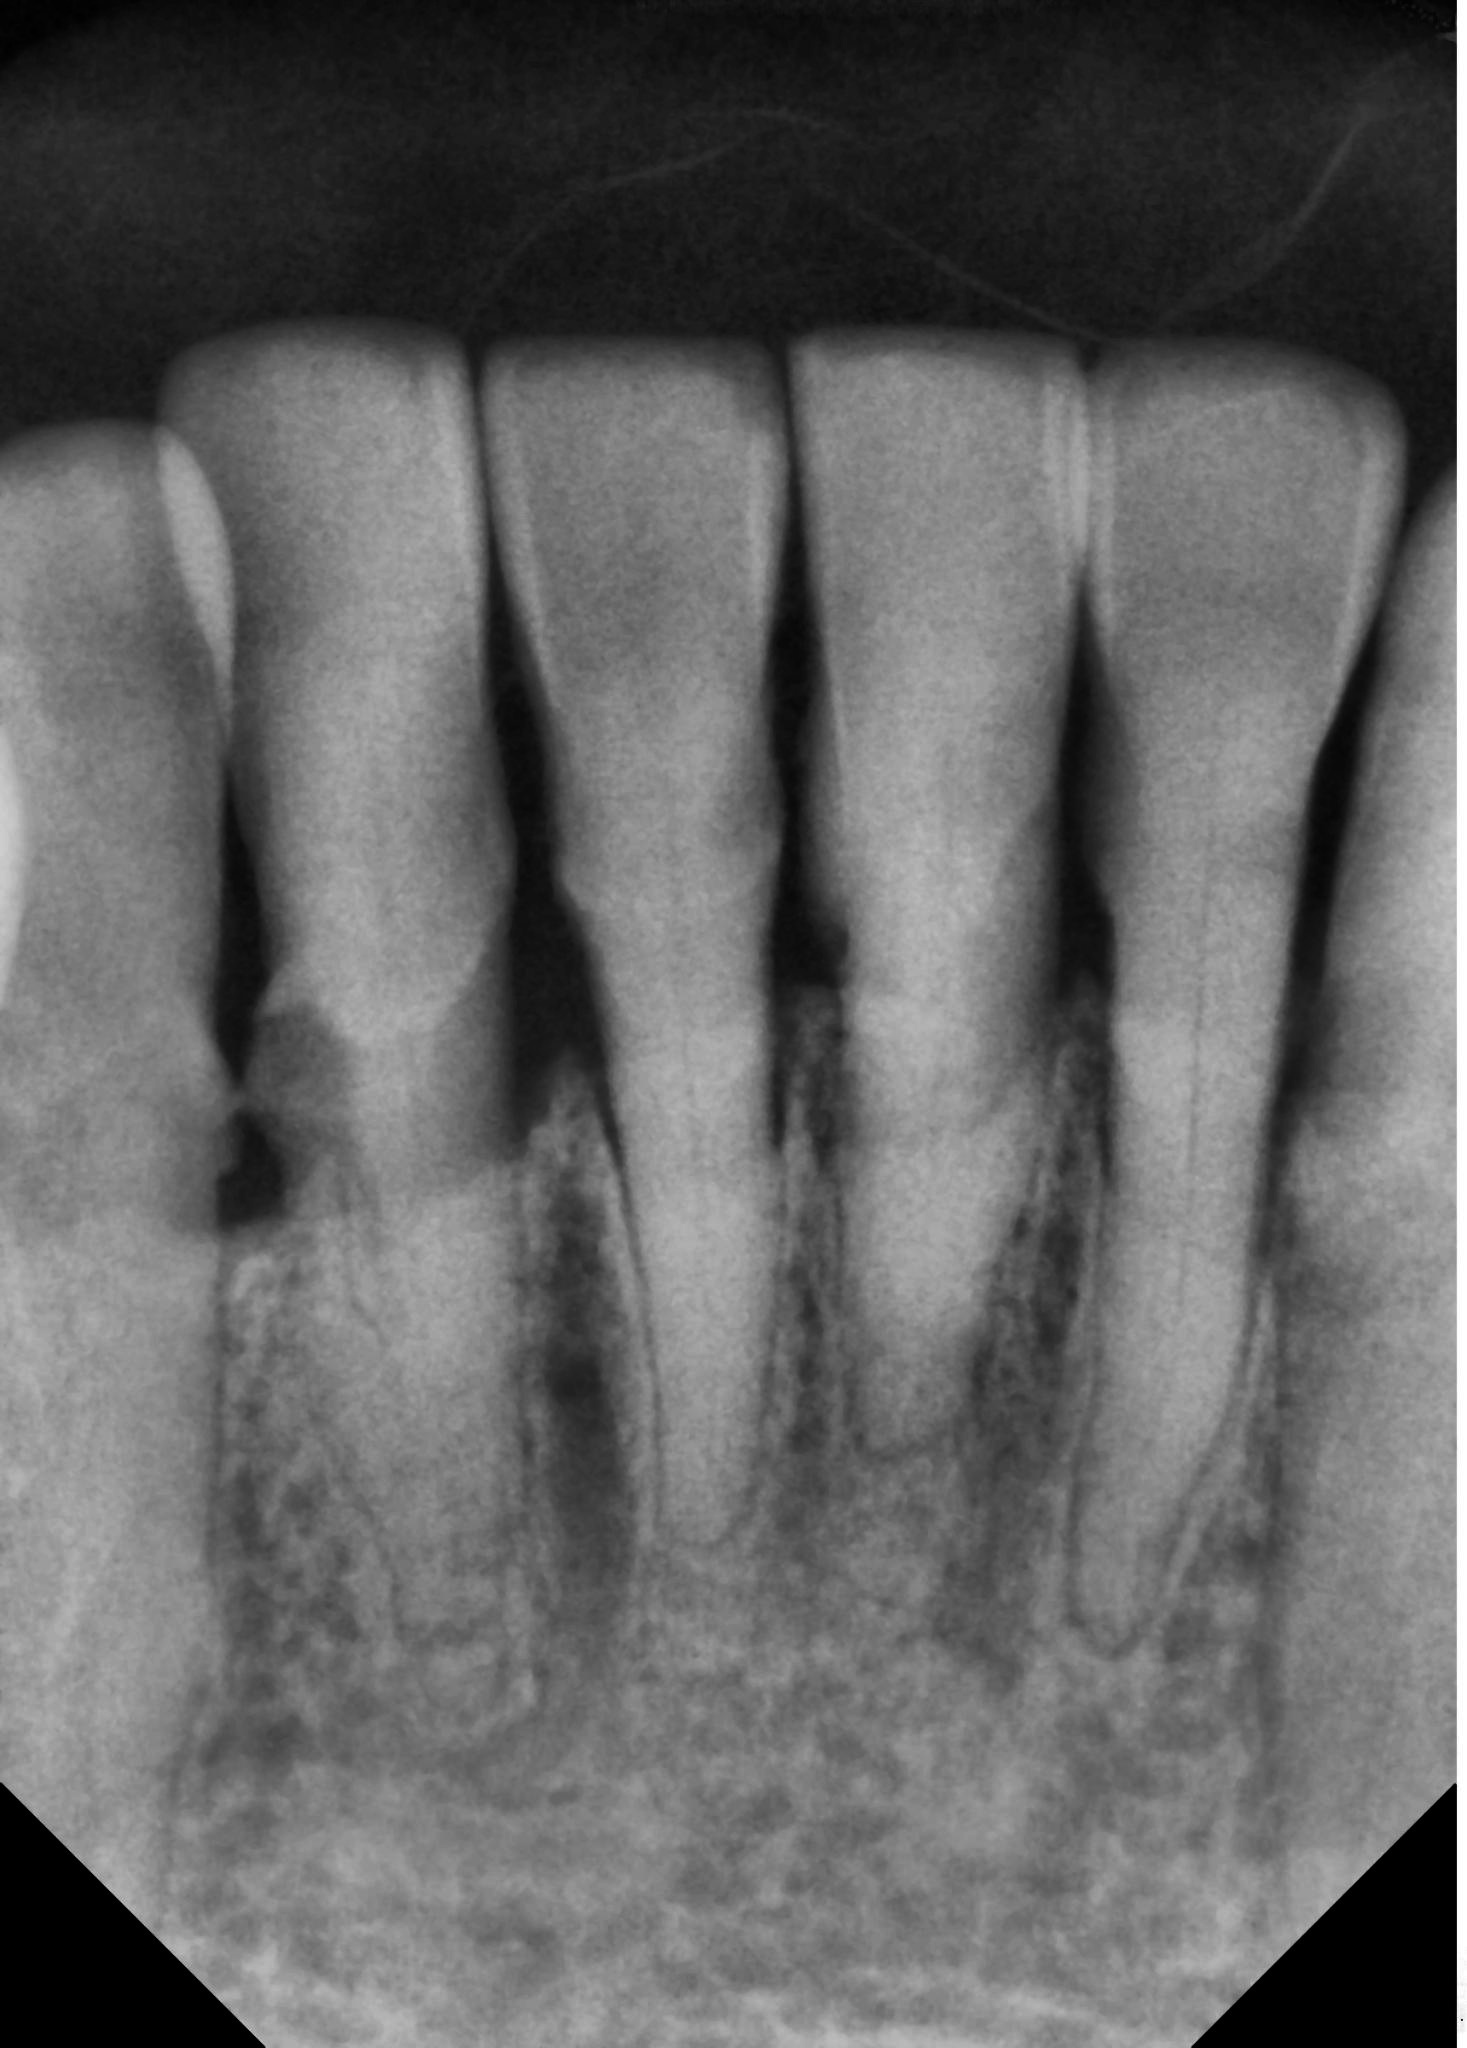Individual Tooth: (160, 320, 523, 1704), (1080, 344, 1404, 1632), (484, 340, 788, 1540), (0, 420, 232, 1908), (792, 332, 1084, 1452), (1254, 469, 1451, 1926)
